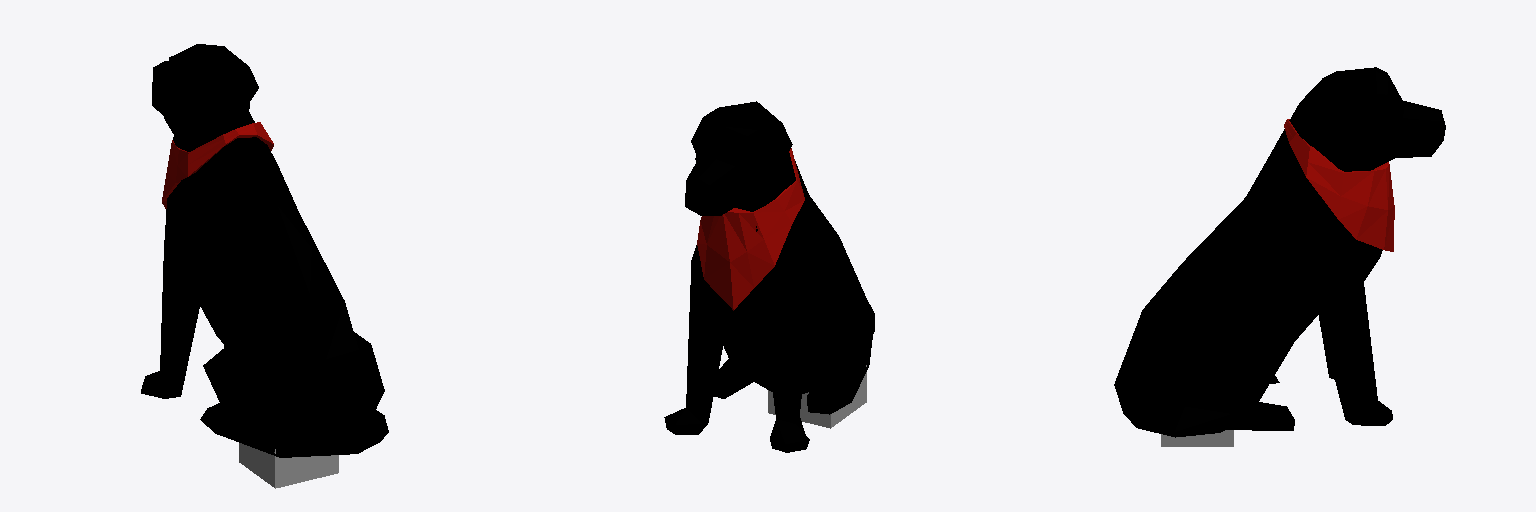
The model's file is MATAPACOS_COLOR.obj.
3 views of the same model, side by side, from view 1: azimuth 30°, elevation 25°; view 2: azimuth 150°, elevation 25°; view 3: azimuth 270°, elevation 25° (orthographic).
Visible parts, largest first — view 1: MATAPACO002, Cube, BANDANA; view 2: MATAPACO002, BANDANA, Cube; view 3: MATAPACO002, BANDANA, Cube.
Part boxes in pixels (x1,y1,x2,y2): MATAPACO002: (141,44,388,457); Cube: (239,443,338,488); BANDANA: (162,122,273,208); MATAPACO002: (664,101,874,452); BANDANA: (697,148,804,310); Cube: (768,365,866,428); MATAPACO002: (1114,67,1445,437); BANDANA: (1284,119,1394,251); Cube: (1161,430,1233,446).
Size of the model in its own units: 4.94 by 10.86 by 9.1.